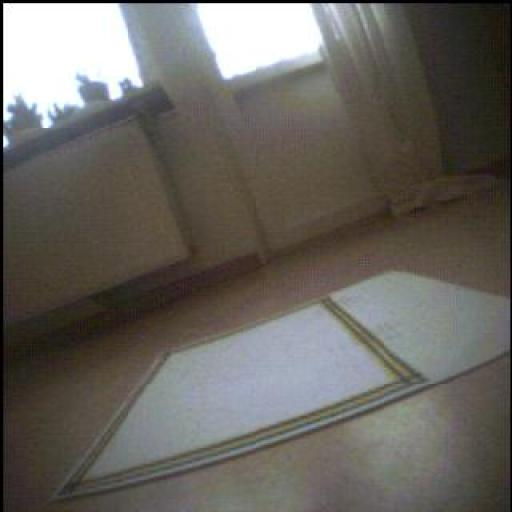Pad: (55, 273, 510, 500), (333, 273, 512, 383)
